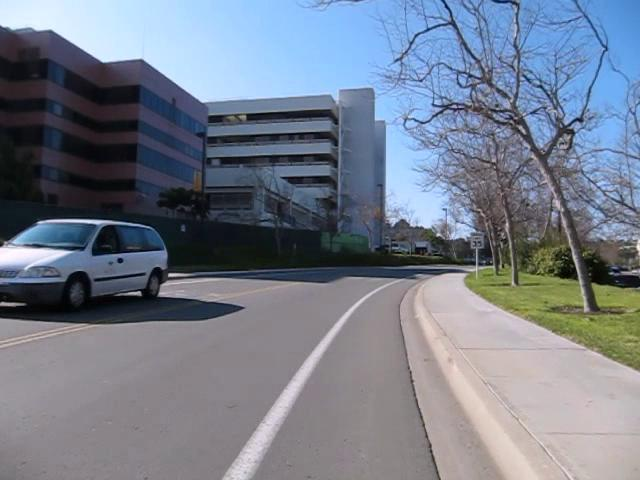speedLimit35: (469, 230, 484, 249)
